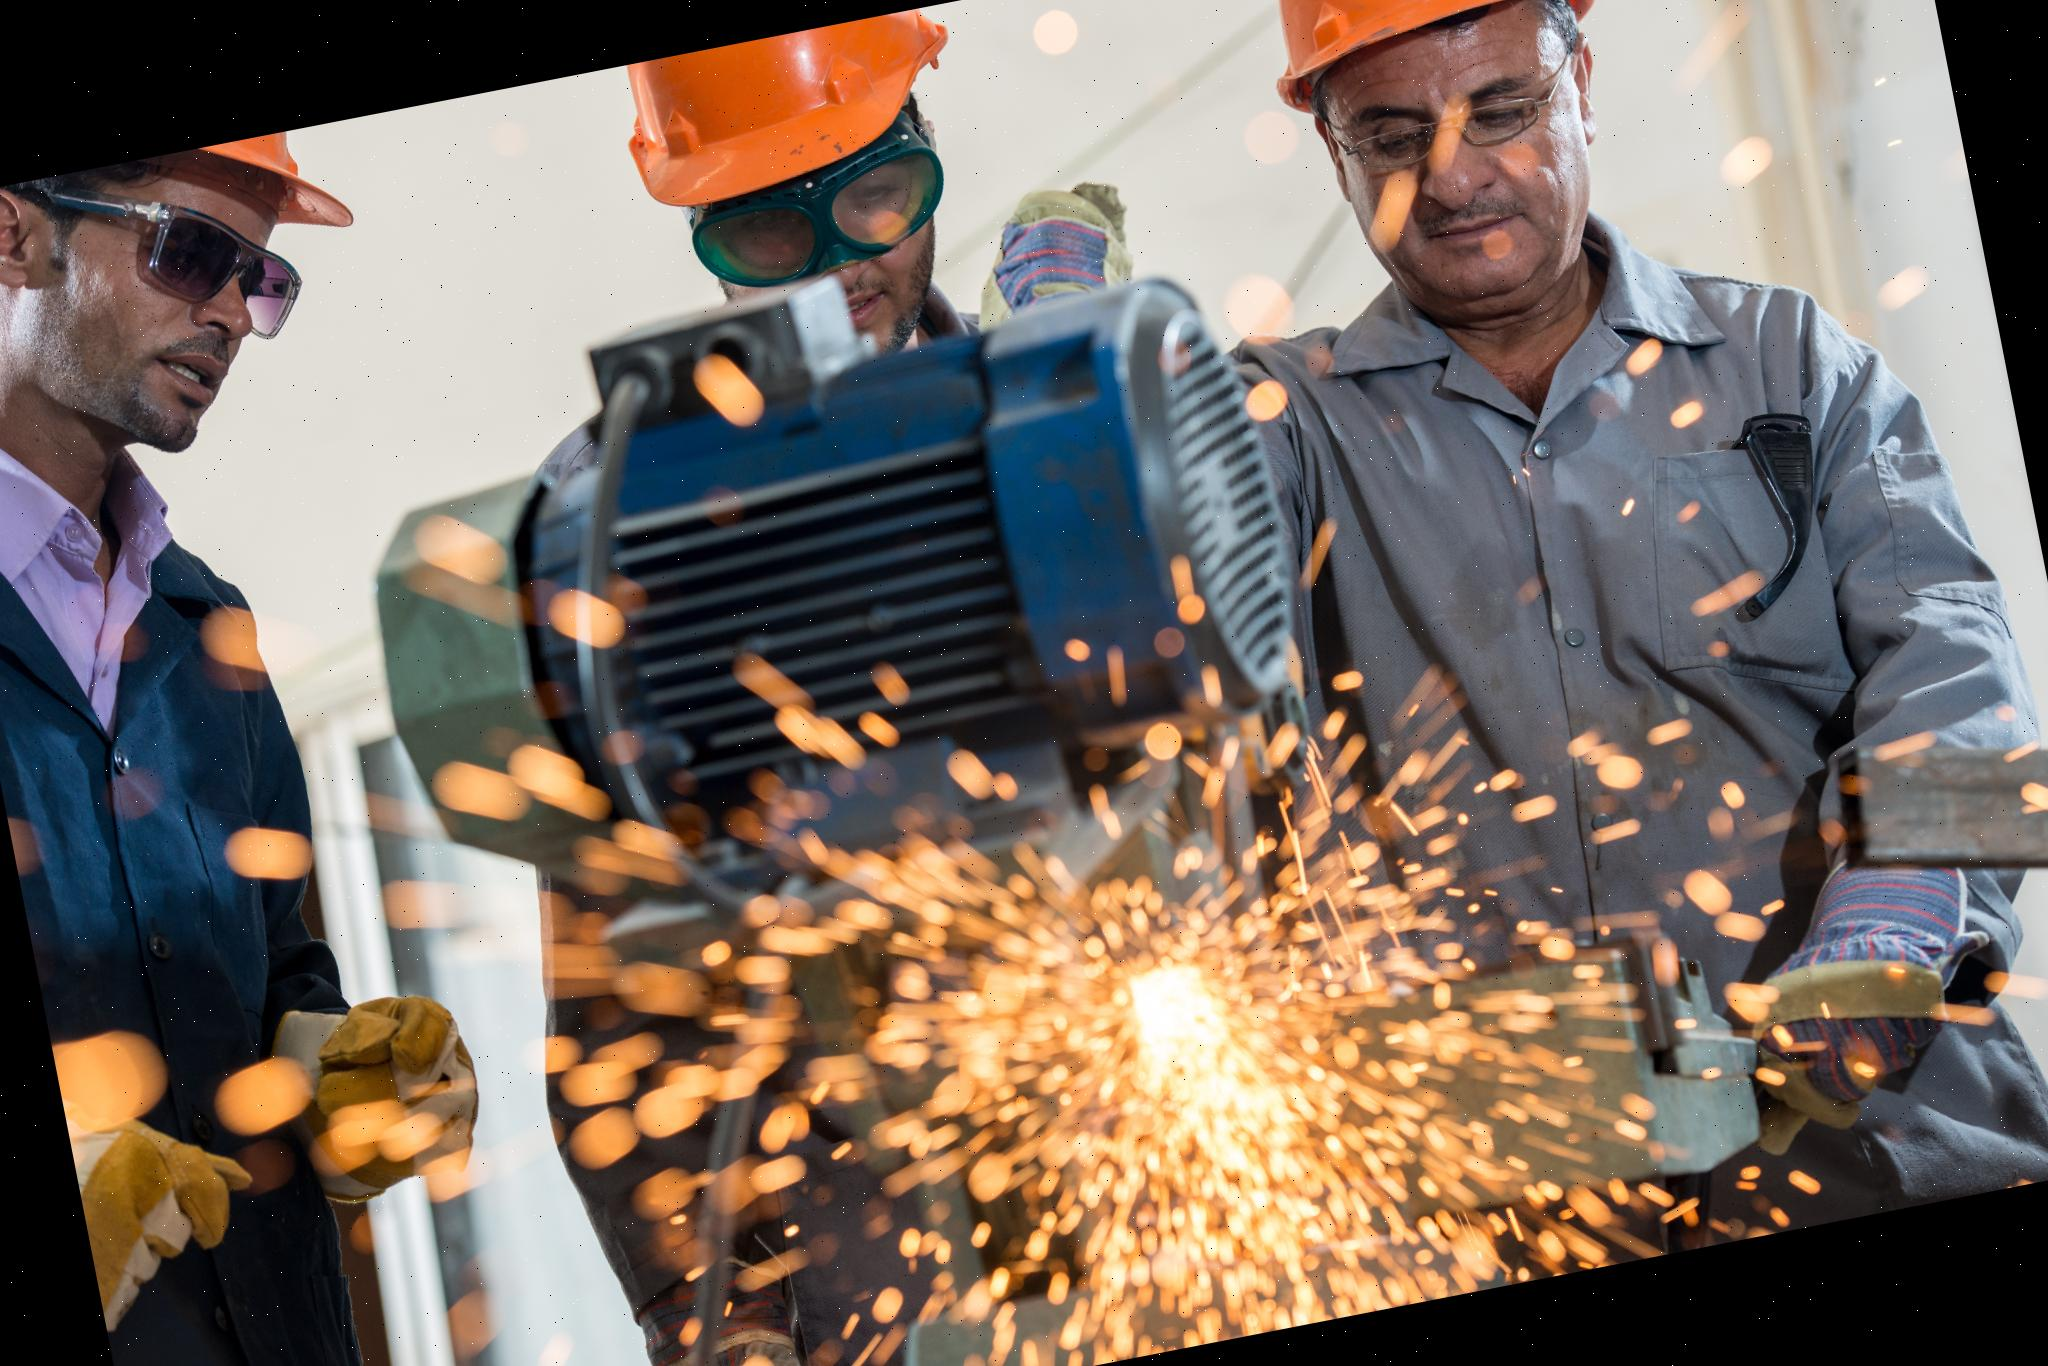helmet: (558, 0, 1035, 252), (0, 104, 443, 281), (1250, 0, 1608, 98), (1640, 706, 1710, 750), (1499, 787, 1565, 828)
no_wear: (1155, 244, 1992, 855)
wear: (0, 511, 357, 1271)
